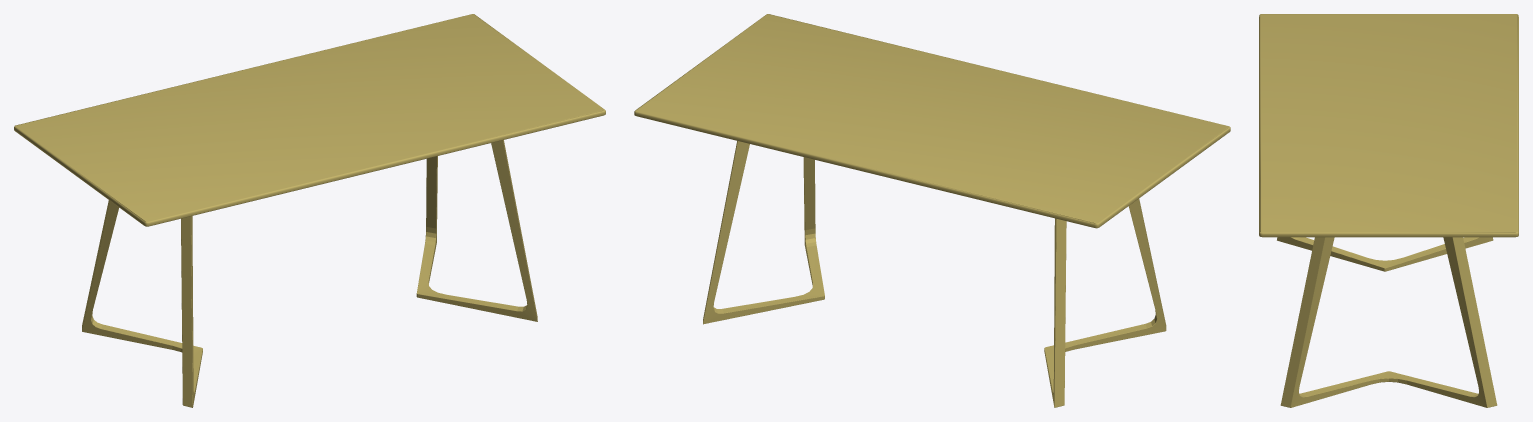
The model's file is DiningSet_Gen_3_Table.fbx.
3 views of the same model, side by side, from view 1: azimuth 30°, elevation 25°; view 2: azimuth 150°, elevation 25°; view 3: azimuth 270°, elevation 25° (orthographic). The views are drawn at different scales.
Parts seen in each view (by area): view 1: mesh_table; view 2: mesh_table; view 3: mesh_table.
Boxes of the visible parts, <box> form: mesh_table: <box>14,14,605,407</box>; mesh_table: <box>634,14,1230,407</box>; mesh_table: <box>1259,14,1518,407</box>.
Size of the model in its own units: 225 by 95.79 by 112.
